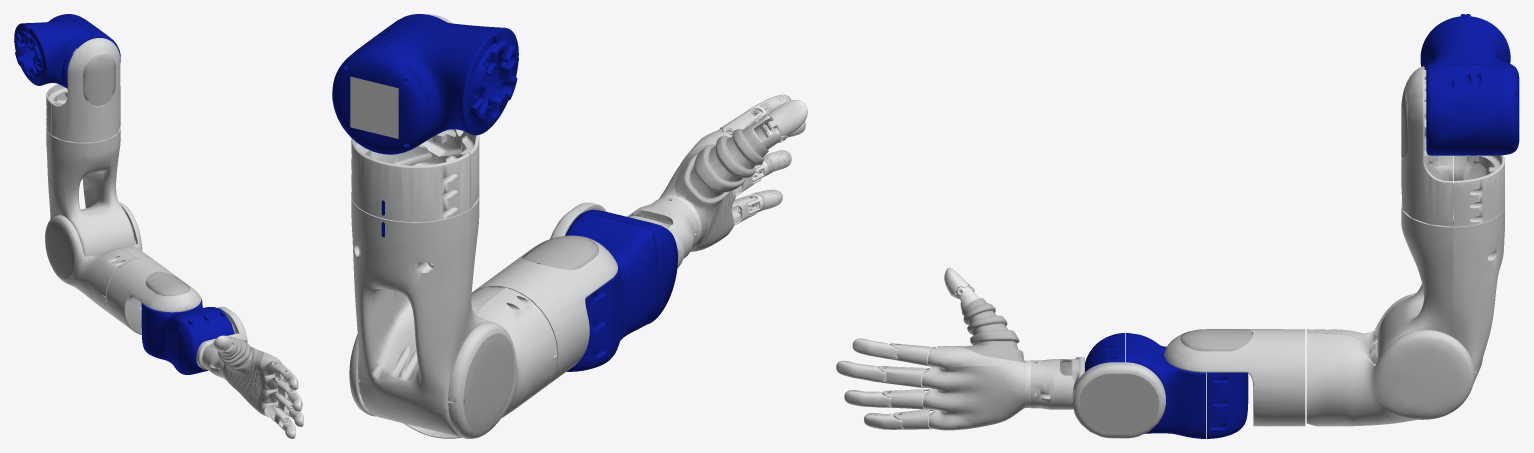
The model's file is rp1-single-arm-product-white.glb.
3 views of the same model, side by side, from view 1: azimuth 30°, elevation 25°; view 2: azimuth 150°, elevation 25°; view 3: azimuth 270°, elevation 25° (orthographic). The views are drawn at different scales.
Visible parts, largest first — view 1: 上手臂下-0914, arm-2.005, arm-4.001, arm-3.001, arm-2.008, arm-4.002, hand-5, arm-2.002, arm-3.008, arm-5.004, hand-3.001, 局部修改补充-0916 (+6 smaller); view 2: 局部修改补充-0916, arm-4.001, arm-2.008, 局部修改补充-0916.002, arm-3.001, arm-2.002, hand-5, arm-1.007, arm-5.004, arm-2.005, Plane.005, arm-re-1.001 (+17 smaller); view 3: arm-1.010, arm-3.003, arm-3.001, hand-3.002, 局部修改补充-0916, 上手臂下-0914, arm-2.005, arm-2.002, arm-1.009, arm-4.001, 局部修改补充-0916.002, arm-re-1.001 (+14 smaller).
Part boxes in pixels (<box>): 上手臂下-0914: <box>51,127,135,256</box>; arm-2.005: <box>51,38,120,142</box>; arm-4.001: <box>14,14,92,88</box>; arm-3.001: <box>106,257,201,334</box>; arm-2.008: <box>45,215,135,316</box>; arm-4.002: <box>178,309,234,374</box>; hand-5: <box>217,336,266,414</box>; arm-2.002: <box>146,299,220,372</box>; arm-3.008: <box>83,54,115,106</box>; arm-5.004: <box>45,222,74,279</box>; hand-3.001: <box>225,363,261,409</box>; 局部修改补充-0916: <box>46,129,95,219</box>; 局部修改补充-0916: <box>351,196,470,436</box>; arm-4.001: <box>380,15,518,152</box>; arm-2.008: <box>432,288,557,438</box>; 局部修改补充-0916.002: <box>351,138,470,221</box>; arm-3.001: <box>472,237,617,388</box>; arm-2.002: <box>565,213,656,360</box>; hand-5: <box>675,126,768,251</box>; arm-1.007: <box>332,52,427,154</box>; arm-5.004: <box>463,333,514,431</box>; arm-2.005: <box>370,14,479,207</box>; Plane.005: <box>350,76,398,138</box>; arm-re-1.001: <box>566,281,611,371</box>; arm-1.010: <box>1306,330,1474,426</box>; arm-3.003: <box>1426,64,1510,155</box>; arm-3.001: <box>1164,329,1305,426</box>; hand-3.002: <box>921,346,1025,430</box>; 局部修改补充-0916: <box>1450,183,1504,383</box>; 上手臂下-0914: <box>1377,183,1453,360</box>; arm-2.005: <box>1401,66,1452,226</box>; arm-2.002: <box>1125,333,1205,438</box>; arm-1.009: <box>1079,373,1159,434</box>; arm-4.001: <box>1420,14,1510,70</box>; 局部修改补充-0916.002: <box>1453,155,1504,226</box>; arm-re-1.001: <box>1206,372,1248,438</box>.
Bounding box in the file's own units: 0.1098 × 0.3196 × 0.5262.
